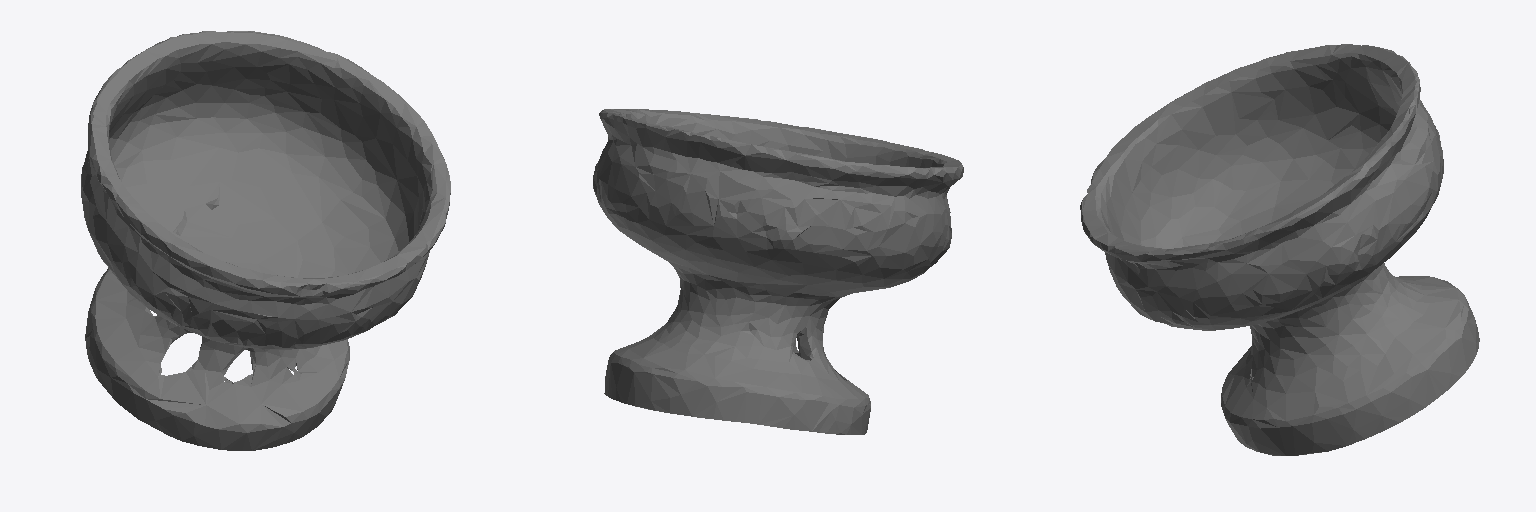
The picture shows the model from 3 angles: view 1: azimuth 30°, elevation 25°; view 2: azimuth 150°, elevation 25°; view 3: azimuth 270°, elevation 25°; orthographic projection.
Parts seen in each view (by area): view 1: Polygonal_Model_1 Triangles_1; view 2: Polygonal_Model_1 Triangles_1; view 3: Polygonal_Model_1 Triangles_1.
Part boxes in pixels (left/top/right/bottom): Polygonal_Model_1 Triangles_1: left=81, top=31, right=450, bottom=450; Polygonal_Model_1 Triangles_1: left=593, top=109, right=963, bottom=434; Polygonal_Model_1 Triangles_1: left=1080, top=44, right=1479, bottom=455.
Size of the model in its own units: 1.98 by 2.04 by 2.14.